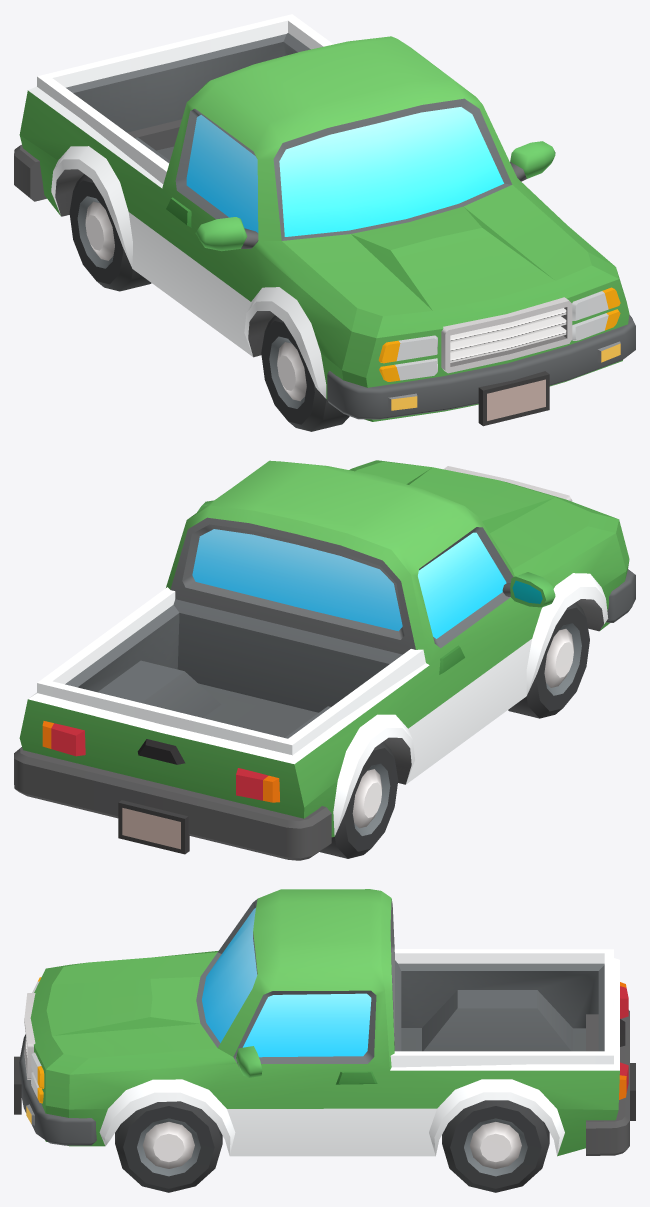
Rendered from city2-car-09.glb.
3 views of the same model, one above another, from view 1: azimuth 30°, elevation 25°; view 2: azimuth 150°, elevation 25°; view 3: azimuth 270°, elevation 25° (orthographic). The views are drawn at different scales.
Parts seen in each view (by area): view 1: Car_09, Wheel_033, Wheel_034; view 2: Car_09, Wheel_034, Wheel_033; view 3: Car_09, Wheel_036, Wheel_035.
Boxes of the visible parts, left/top/right/bottom form: Car_09: left=14, top=14, right=635, bottom=426; Wheel_033: left=261, top=315, right=349, bottom=431; Wheel_034: left=69, top=174, right=151, bottom=291; Car_09: left=14, top=460, right=635, bottom=860; Wheel_034: left=320, top=741, right=398, bottom=858; Wheel_033: left=508, top=602, right=589, bottom=718; Car_09: left=14, top=889, right=635, bottom=1156; Wheel_036: left=442, top=1100, right=549, bottom=1192; Wheel_035: left=115, top=1101, right=222, bottom=1192.
Size of the model in its own units: 2.62 by 1.81 by 4.66.
2 materials, 2 textured.
